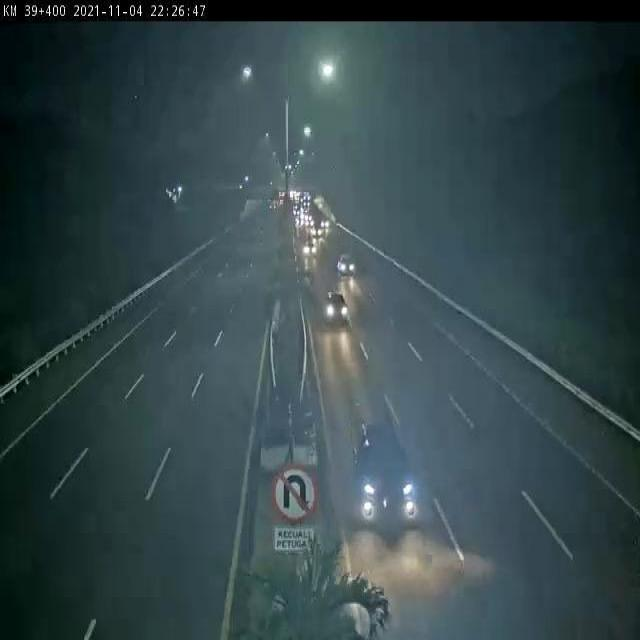car: (350, 418, 426, 530), (321, 286, 350, 326), (335, 246, 359, 278), (301, 239, 319, 260)
